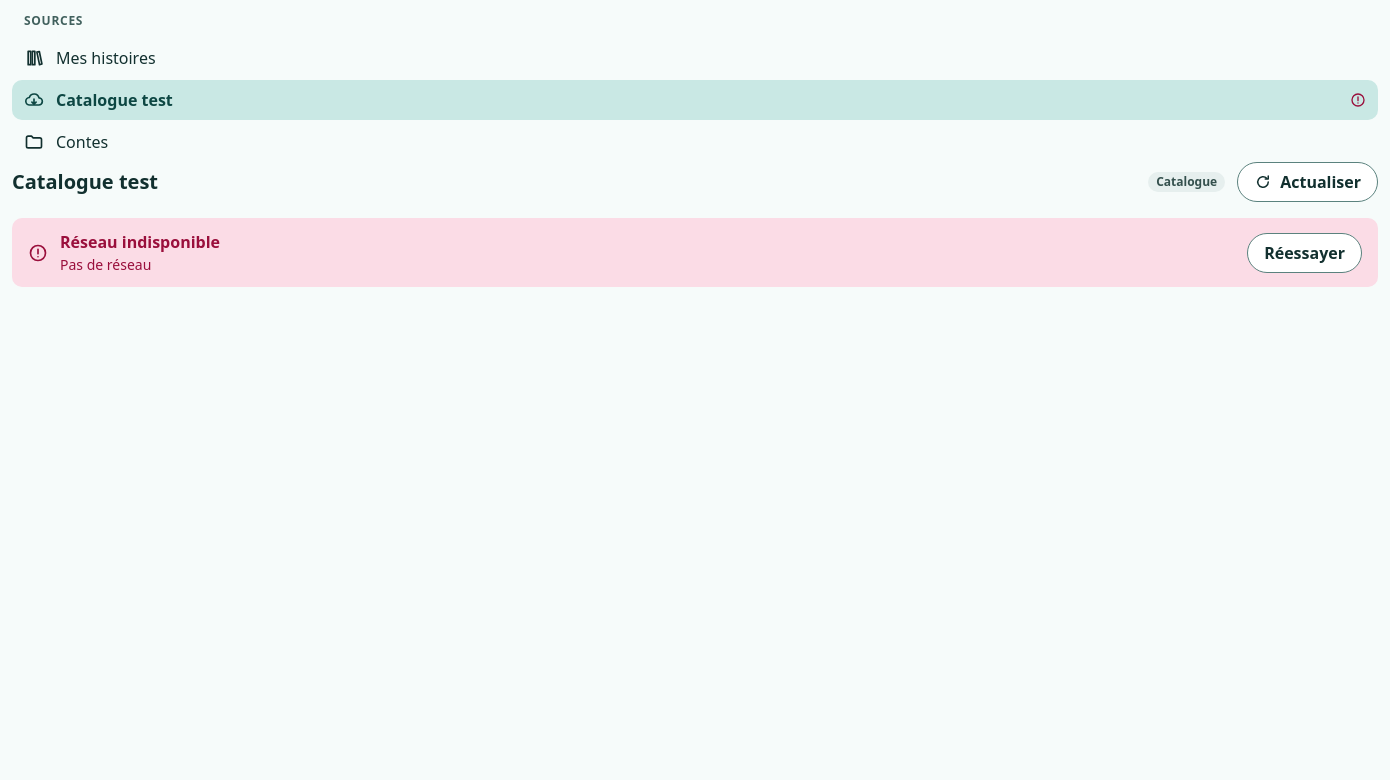
Test case: affiche une erreur de chargement avec un bouton Réessayer
This screenshot has width=1390, height=780.
Expected: the text "Réseau indisponible" is shown, left=60, top=231, right=220, bottom=253
Expected: the text "Pas de réseau" is shown, left=60, top=255, right=151, bottom=274
Click the button "Réessayer". click: (1305, 252)
box: left=1247, top=232, right=1362, bottom=272
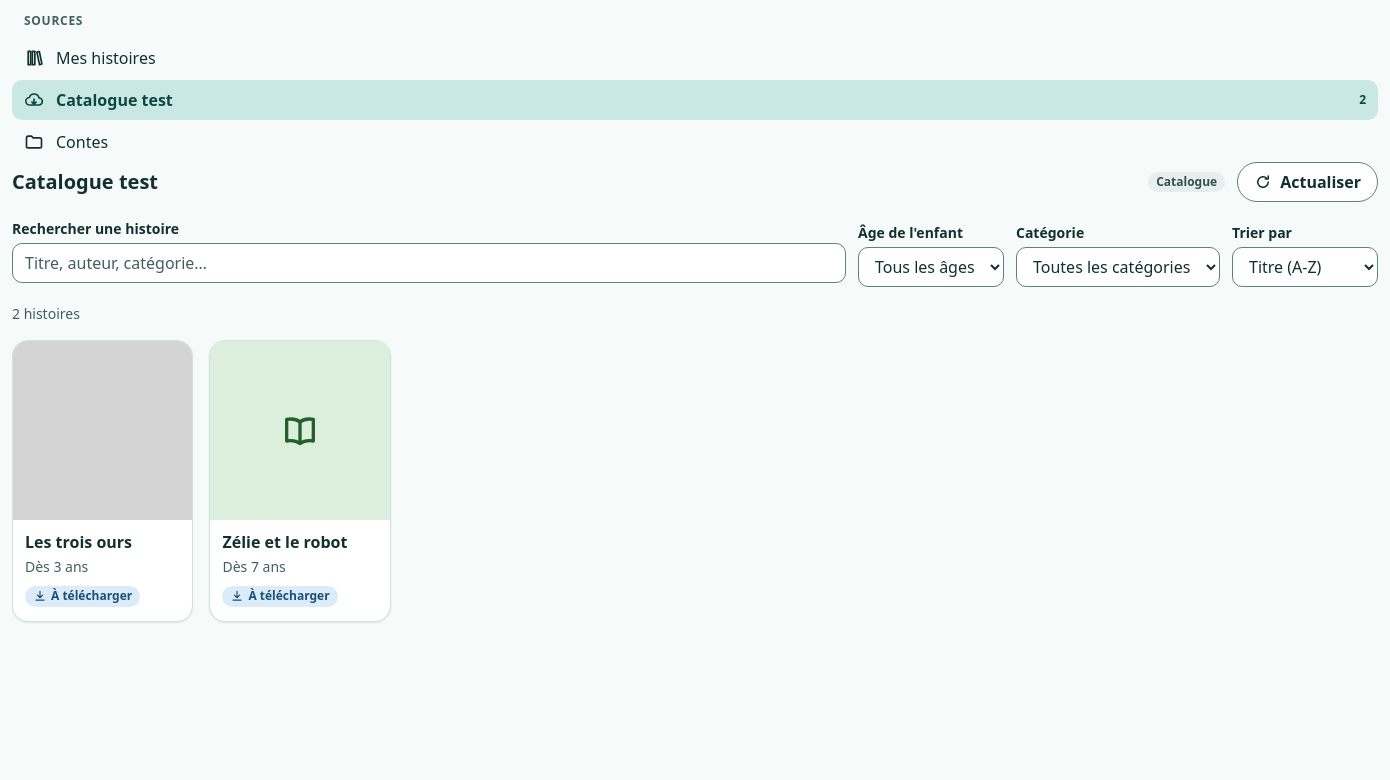
Expected: the heading "Les trois ours" is shown, left=25, top=531, right=132, bottom=553
Expected: the text "Pas de réseau" is gone
